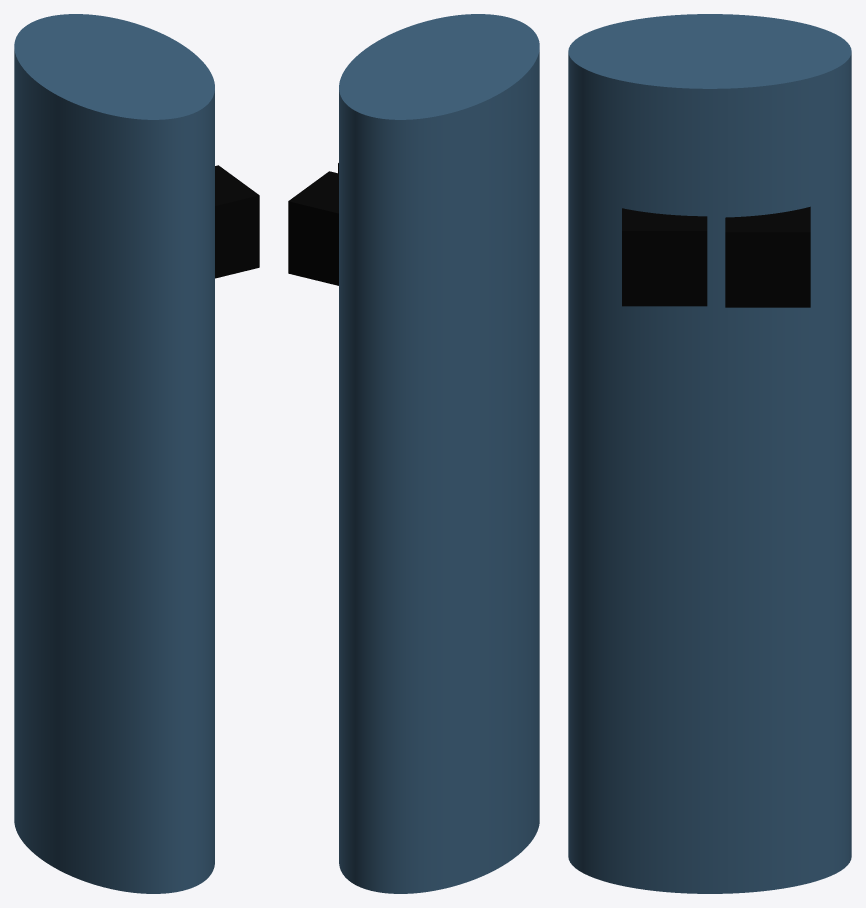
Rendered from charchingstation.glb.
The picture shows the model from 3 angles, left to right: view 1: azimuth 30°, elevation 25°; view 2: azimuth 150°, elevation 25°; view 3: azimuth 270°, elevation 25°; orthographic projection. The views are drawn at different scales.
Visible parts, largest first — view 1: mesh_id51, mesh_id53; view 2: mesh_id51, mesh_id59; view 3: mesh_id51, mesh_id59, mesh_id53.
Boxes of the visible parts, bbox=[...] form: mesh_id51: bbox=[14, 14, 214, 893]; mesh_id53: bbox=[215, 165, 259, 278]; mesh_id51: bbox=[339, 14, 539, 893]; mesh_id59: bbox=[288, 171, 338, 285]; mesh_id51: bbox=[568, 14, 851, 893]; mesh_id59: bbox=[725, 206, 810, 307]; mesh_id53: bbox=[622, 208, 707, 306].
Bounding box in the file's own units: 0.05 × 0.2095 × 0.0668.
3 materials, 3 textured.
